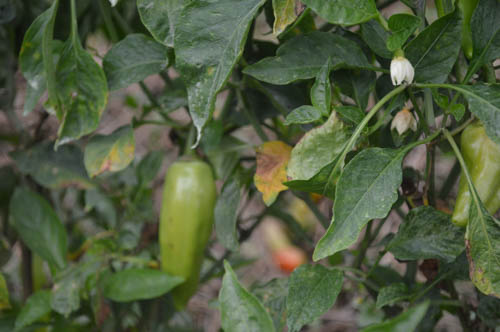ChiliPepper: (160, 159, 212, 310), (452, 121, 498, 229)
